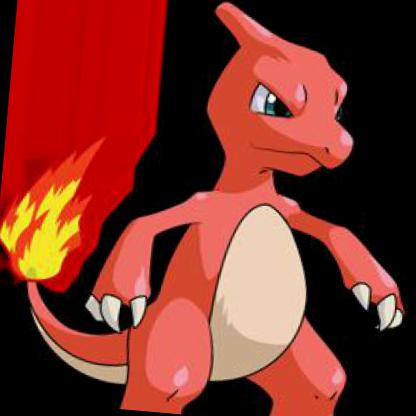Glutexo: (0, 0, 415, 415), (0, 2, 415, 415)
